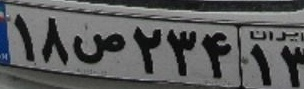character: (71, 29, 128, 68), (200, 24, 236, 82), (128, 19, 163, 77), (163, 25, 199, 80), (39, 10, 72, 69), (10, 10, 39, 64), (246, 40, 275, 89), (278, 42, 304, 89)
